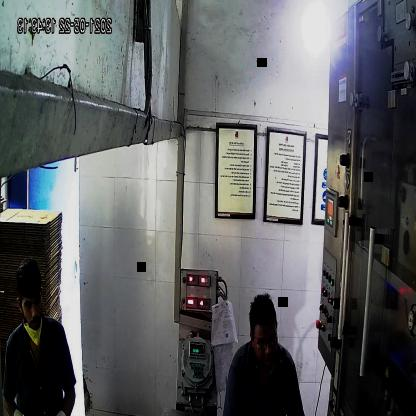goggles: (249, 324, 280, 350)
no_goggles: (16, 288, 46, 315)
